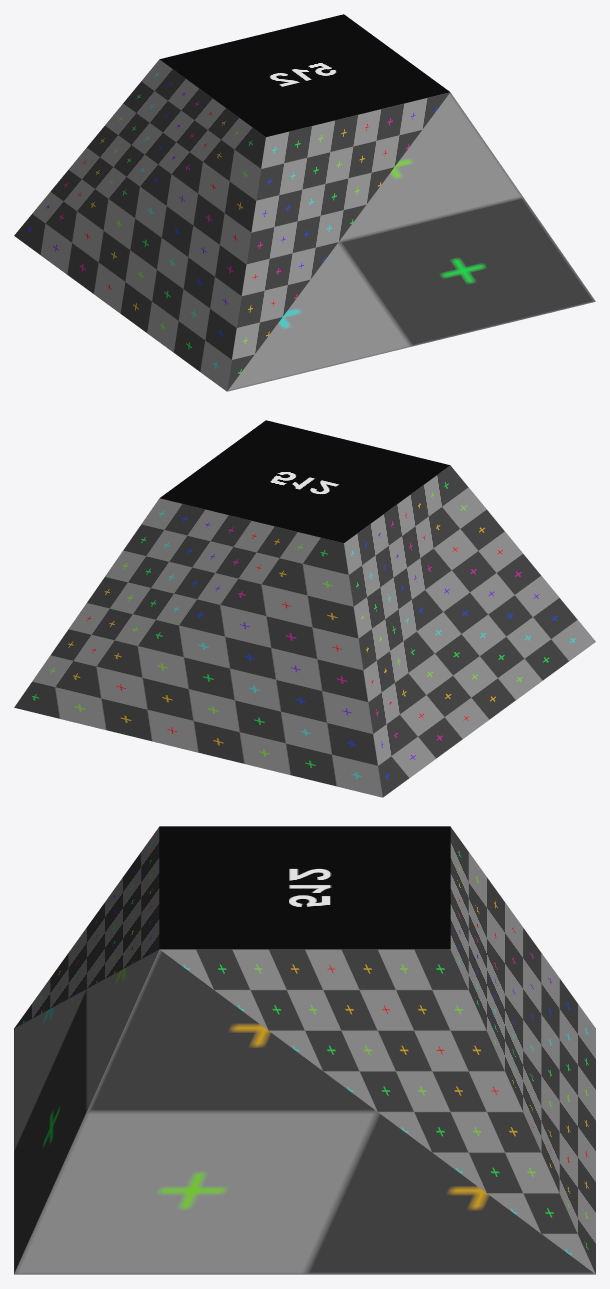
Rendered from blender-default-cube-density.glb.
3 views of the same model, one above another, from view 1: azimuth 30°, elevation 25°; view 2: azimuth 150°, elevation 25°; view 3: azimuth 270°, elevation 25° (orthographic). The views are drawn at different scales.
Parts seen in each view (by area): view 1: Cube; view 2: Cube; view 3: Cube.
Boxes of the visible parts, <box> form: Cube: <box>14,14,595,391</box>; Cube: <box>14,420,595,797</box>; Cube: <box>14,826,595,1274</box>.
Bounding box in the file's own units: 4 × 2 × 4.
4 materials, 4 textured.
